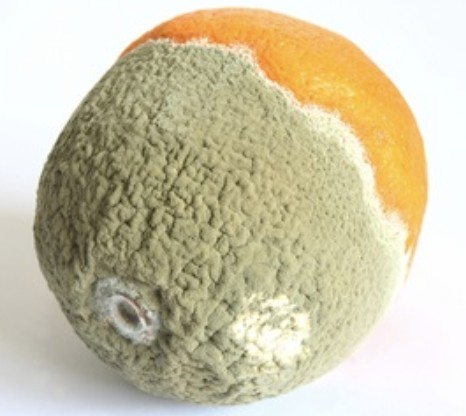rotten_orange: (35, 8, 429, 405)
